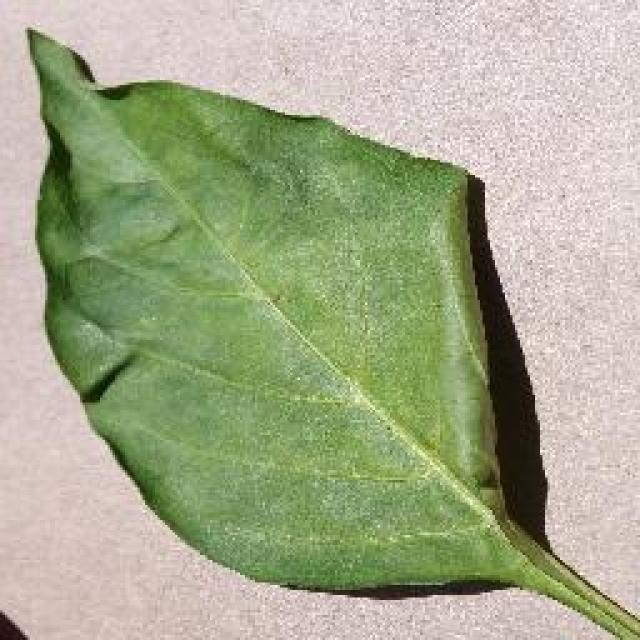Chilli_Healthy: (22, 22, 638, 638)
